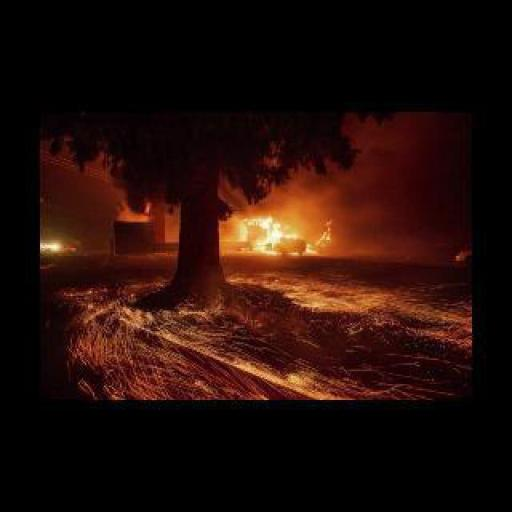smoke: (254, 216, 280, 251), (315, 221, 336, 245), (307, 243, 312, 251), (285, 234, 299, 236)
